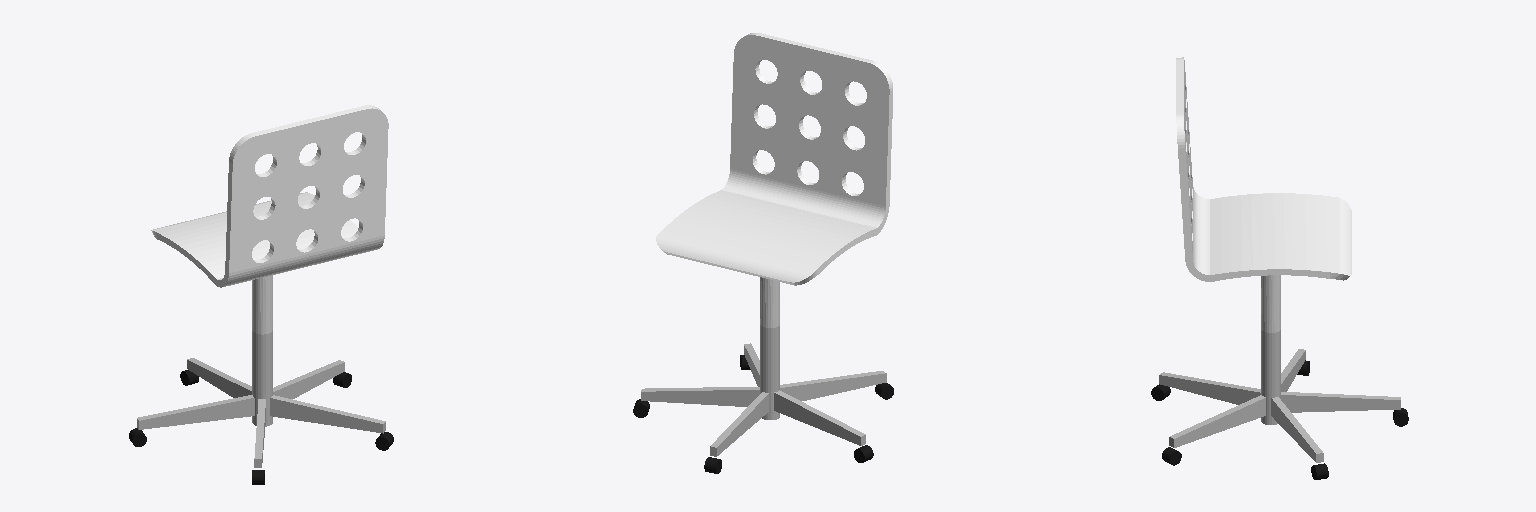
3 views of the same model, side by side, from view 1: azimuth 30°, elevation 25°; view 2: azimuth 150°, elevation 25°; view 3: azimuth 270°, elevation 25° (orthographic).
Parts seen in each view (by area): view 1: Mesh1 Group2 Group1 Model, Mesh12 Group3 ske3F1 Group1 Model, Mesh7 Group6 Group3 ske3F1 Group1 Model, Mesh5 Group5 Group3 ske3F1 Group1 Model, Mesh11 Group8 Group3 ske3F1 Group1 Model, Mesh3 Group4 Group3 ske3F1 Group1 Model, Mesh9 Group7 Group3 ske3F1 Group1 Model; view 2: Mesh1 Group2 Group1 Model, Mesh12 Group3 ske3F1 Group1 Model, Mesh11 Group8 Group3 ske3F1 Group1 Model, Mesh7 Group6 Group3 ske3F1 Group1 Model, Mesh9 Group7 Group3 ske3F1 Group1 Model, Mesh3 Group4 Group3 ske3F1 Group1 Model; view 3: Mesh1 Group2 Group1 Model, Mesh12 Group3 ske3F1 Group1 Model, Mesh3 Group4 Group3 ske3F1 Group1 Model, Mesh5 Group5 Group3 ske3F1 Group1 Model, Mesh9 Group7 Group3 ske3F1 Group1 Model, Mesh11 Group8 Group3 ske3F1 Group1 Model, Mesh7 Group6 Group3 ske3F1 Group1 Model.
Boxes of the visible parts, box(x1,y1,x2,y2) form: Mesh1 Group2 Group1 Model: box(151, 105, 388, 287); Mesh12 Group3 ske3F1 Group1 Model: box(252, 275, 272, 426); Mesh7 Group6 Group3 ske3F1 Group1 Model: box(137, 395, 254, 429); Mesh5 Group5 Group3 ske3F1 Group1 Model: box(270, 395, 385, 433); Mesh11 Group8 Group3 ske3F1 Group1 Model: box(273, 360, 344, 398); Mesh3 Group4 Group3 ske3F1 Group1 Model: box(187, 358, 251, 397); Mesh9 Group7 Group3 ske3F1 Group1 Model: box(254, 399, 265, 467); Mesh1 Group2 Group1 Model: box(656, 33, 892, 285); Mesh12 Group3 ske3F1 Group1 Model: box(760, 277, 779, 419); Mesh11 Group8 Group3 ske3F1 Group1 Model: box(641, 387, 759, 406); Mesh7 Group6 Group3 ske3F1 Group1 Model: box(774, 390, 865, 445); Mesh9 Group7 Group3 ske3F1 Group1 Model: box(780, 371, 886, 400); Mesh3 Group4 Group3 ske3F1 Group1 Model: box(710, 392, 768, 456); Mesh1 Group2 Group1 Model: box(1176, 57, 1351, 281); Mesh12 Group3 ske3F1 Group1 Model: box(1261, 275, 1280, 424); Mesh3 Group4 Group3 ske3F1 Group1 Model: box(1281, 392, 1400, 412); Mesh5 Group5 Group3 ske3F1 Group1 Model: box(1169, 395, 1265, 447); Mesh9 Group7 Group3 ske3F1 Group1 Model: box(1159, 372, 1260, 404); Mesh11 Group8 Group3 ske3F1 Group1 Model: box(1271, 397, 1323, 462); Mesh7 Group6 Group3 ske3F1 Group1 Model: box(1281, 349, 1305, 391).
Size of the model in its own units: 0.5498 by 0.7829 by 0.535.